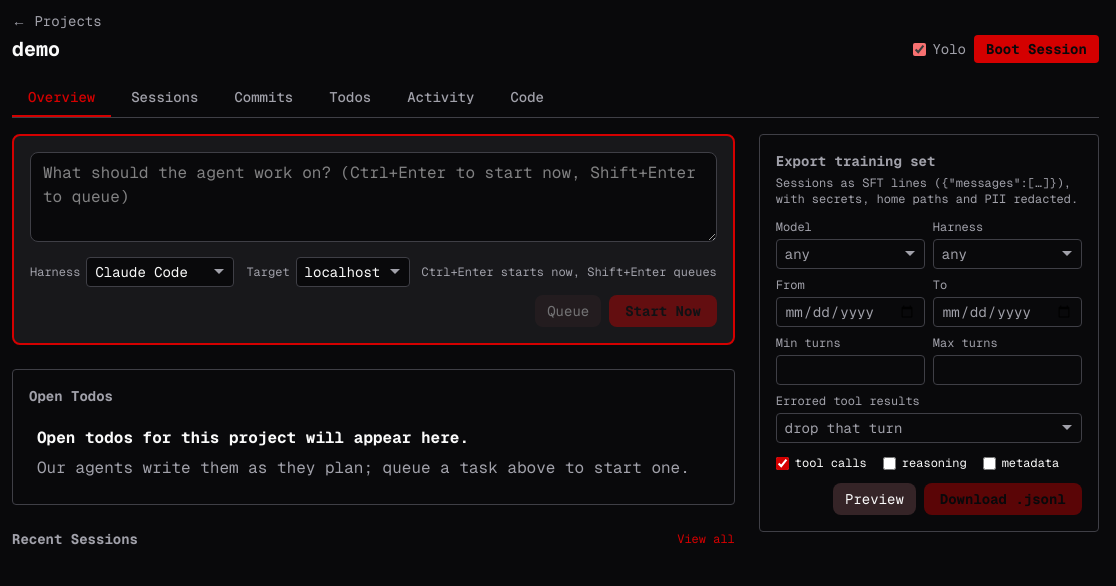
Test: starting work › refuses to boot before it knows where the project is
What coordinates should you click on to do the following:
click the button "Boot Session"
I would click on:
 (1036, 49)
Its box is [974,35,1099,63].
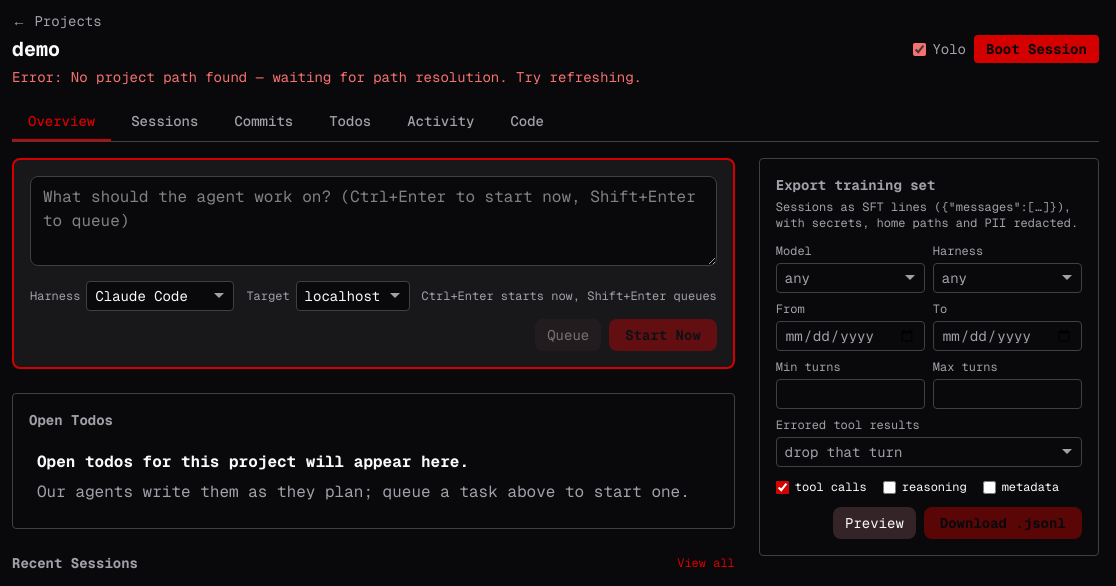
Now the text "No project path found" is shown, box [12,68,642,86]
